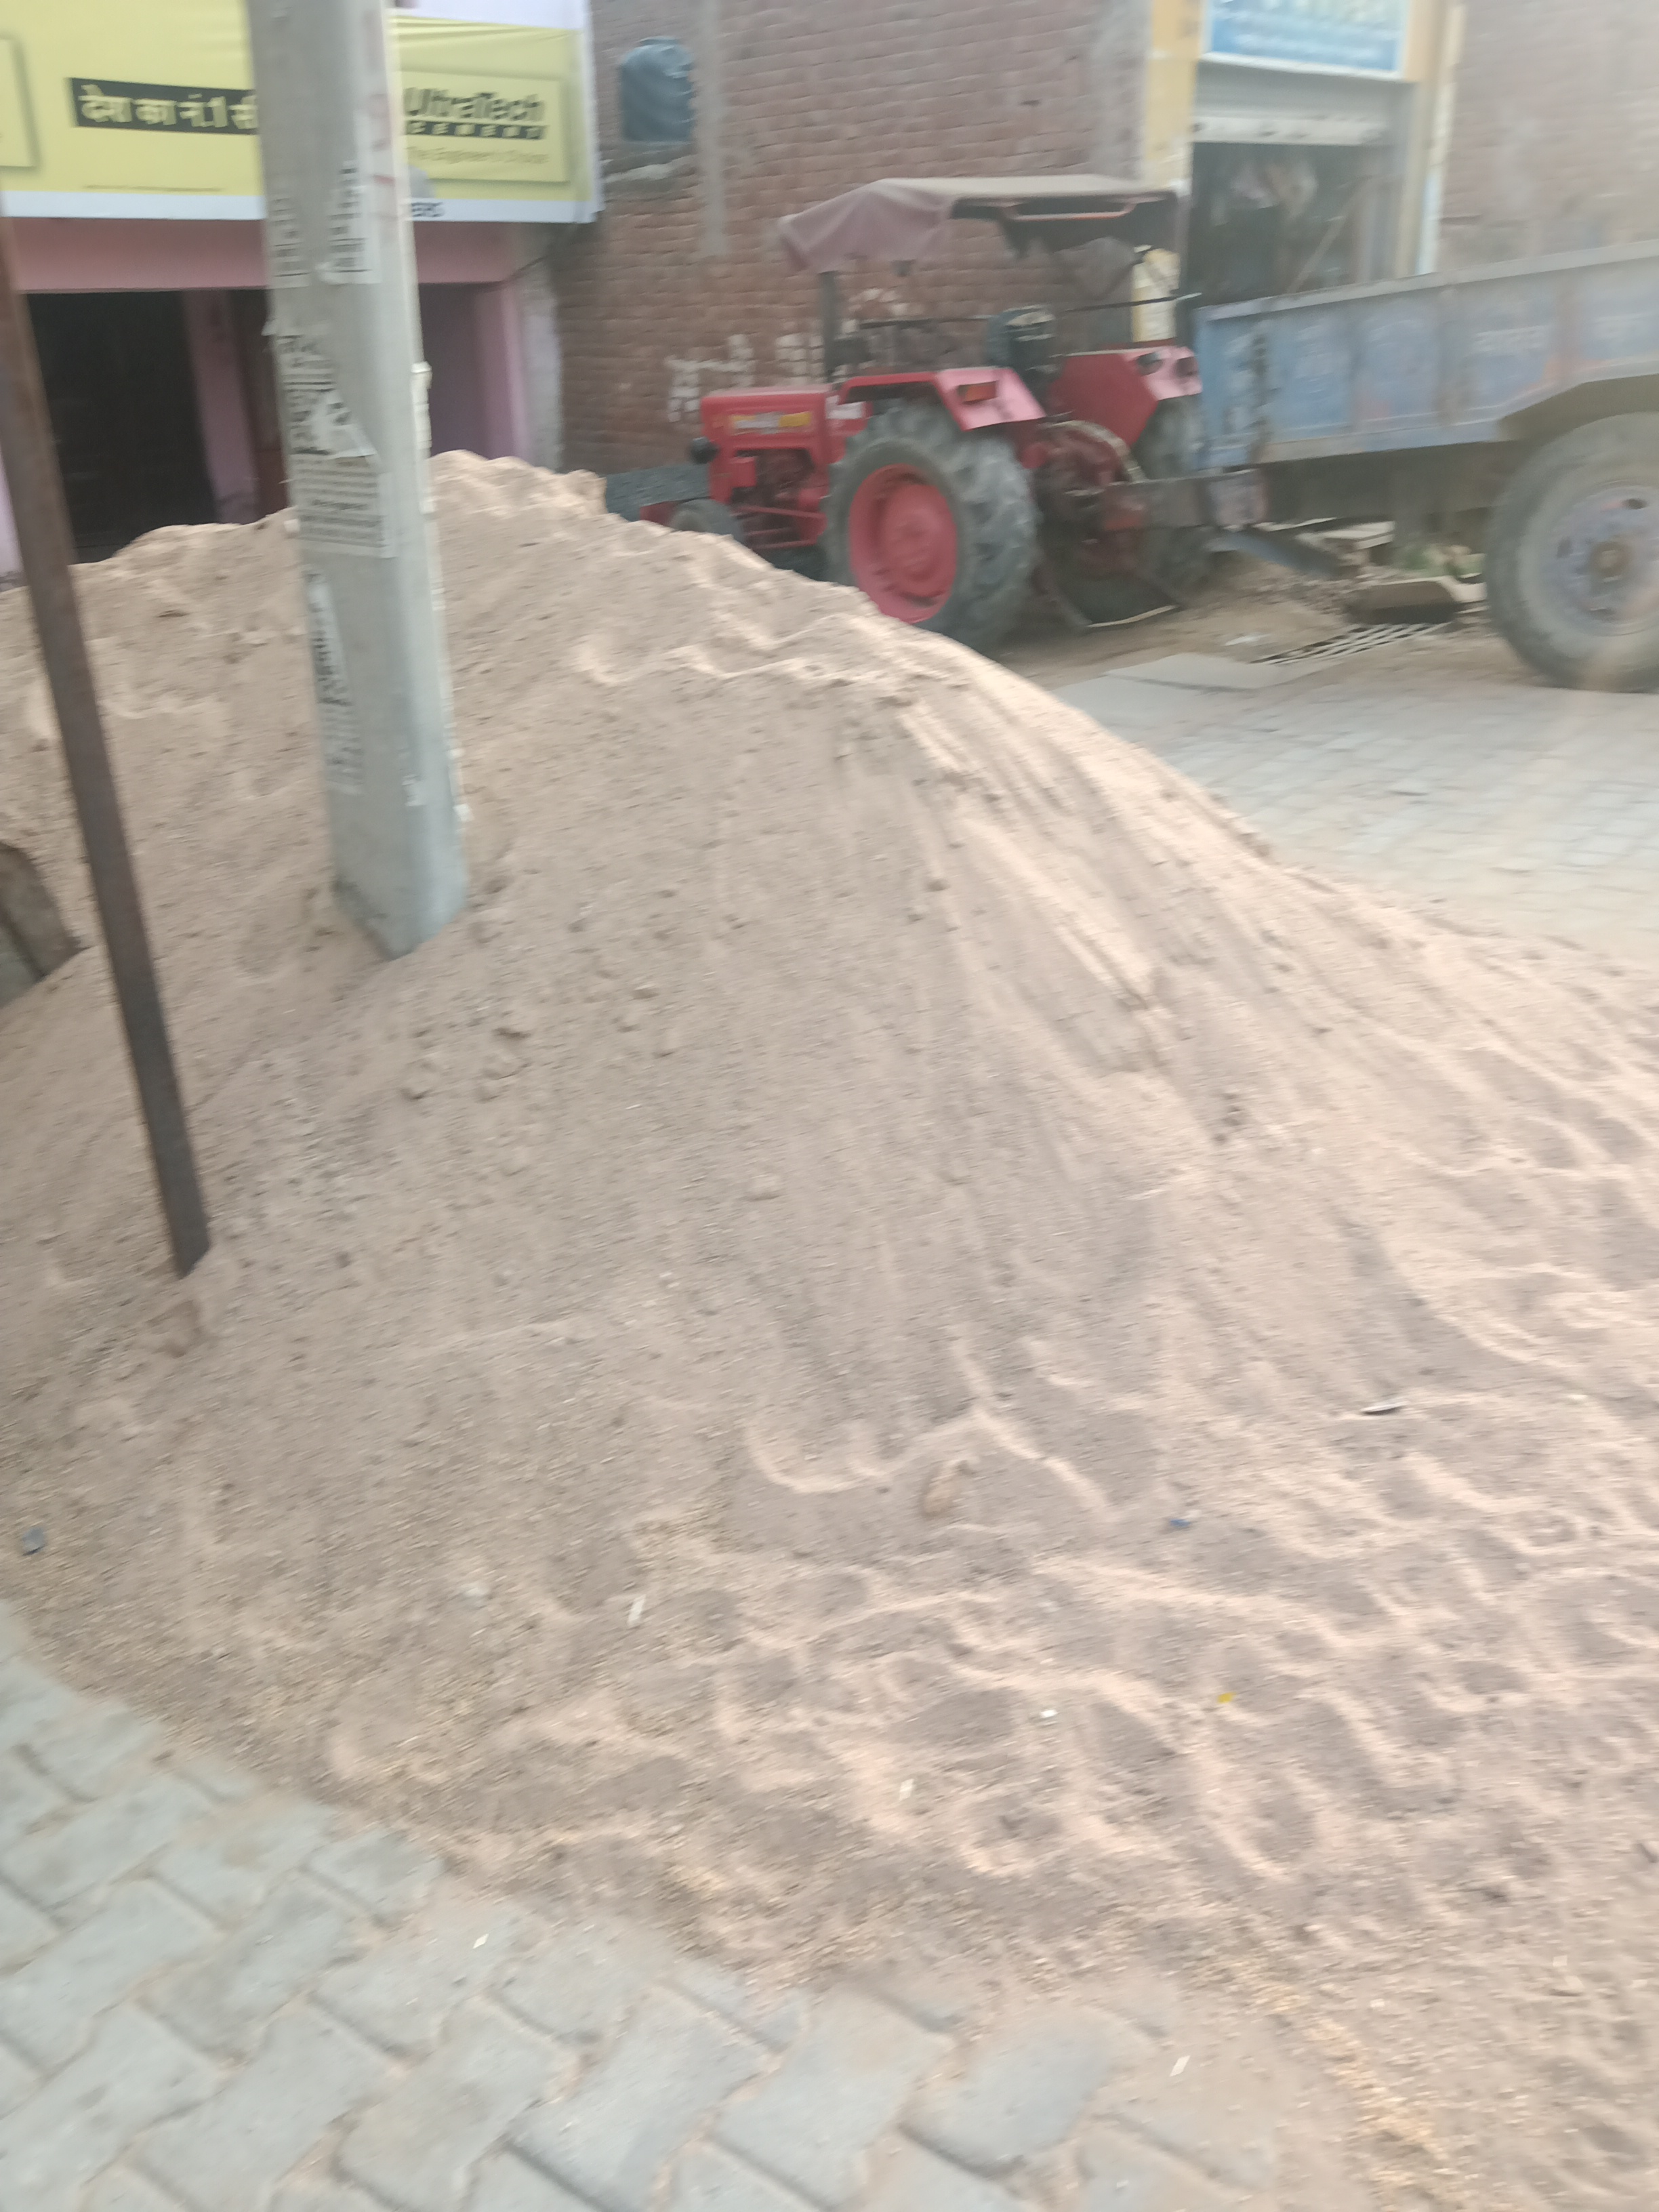tractor: (634, 172, 1659, 697)
